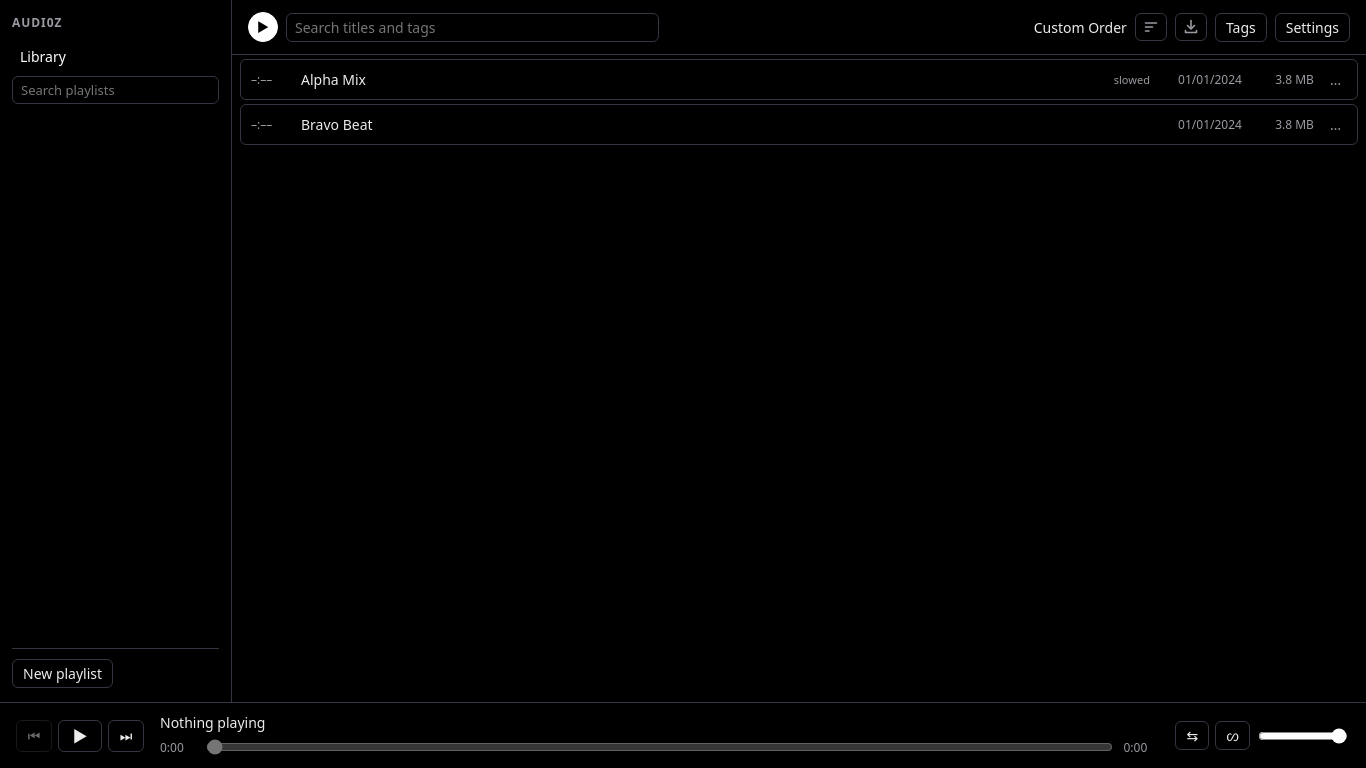
Test case: EditSongDialog › stays open and says so when the save fails
Click the button named "Options for Alpha Mix": click(1335, 80) [1324,71,1347,89]
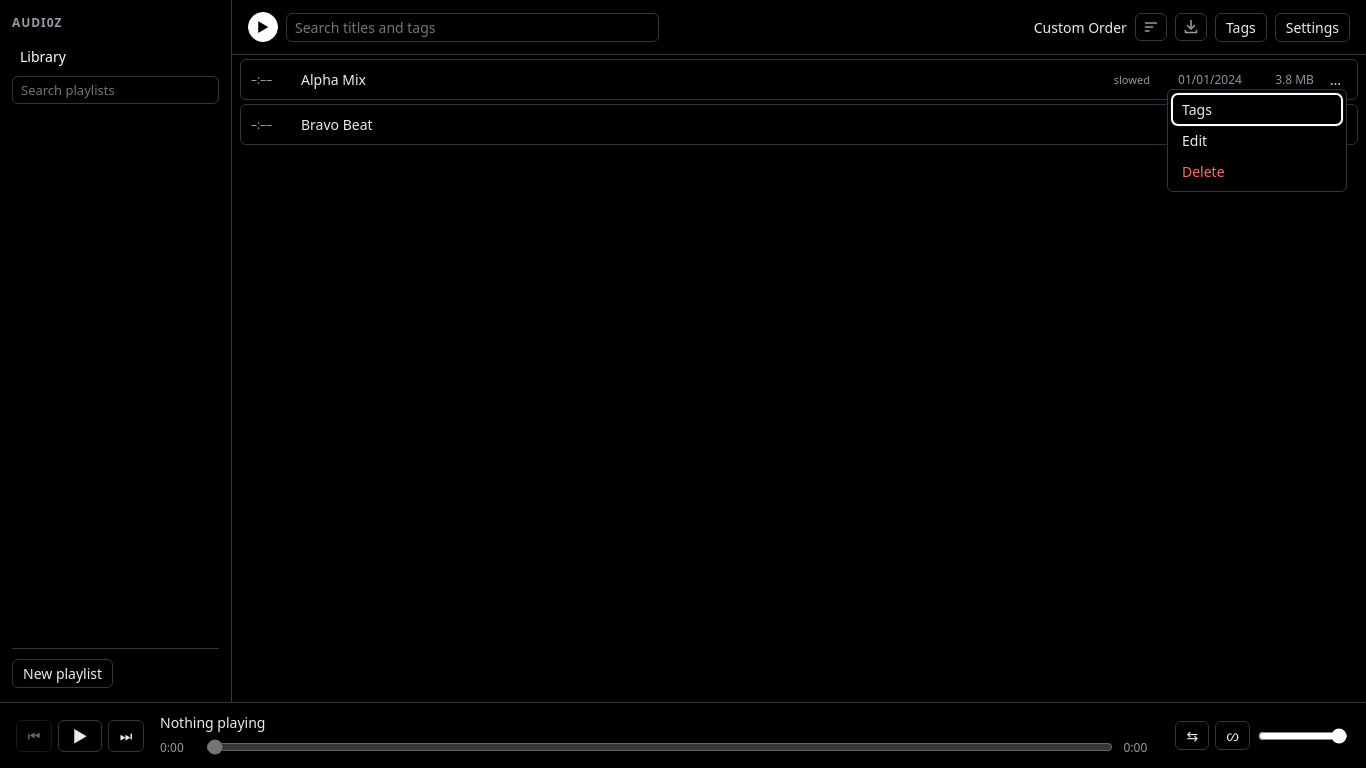
Click the menu item "Edit": click(1257, 140) [1172,125,1342,156]
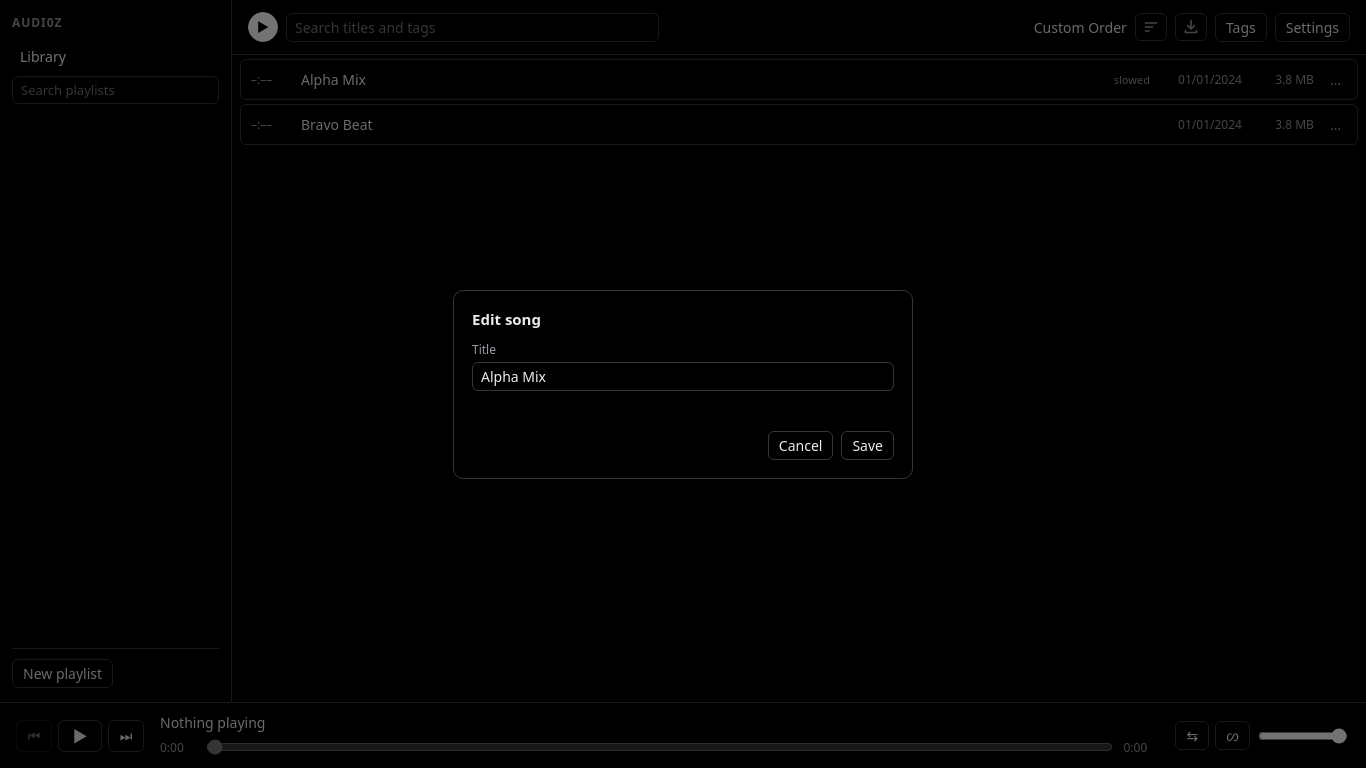
In the field labelled "Title": (683, 376) [472,362,894,390], type "!"
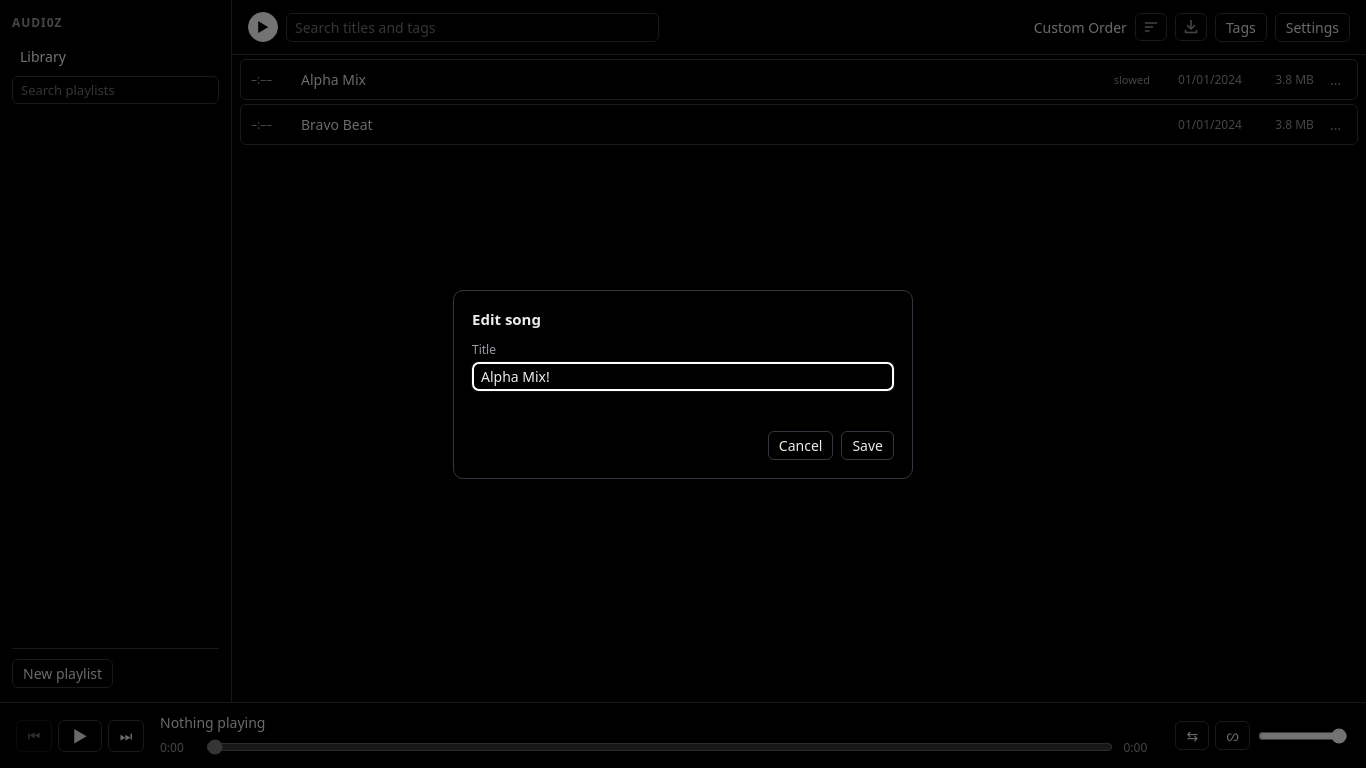
Click the button "Save": click(868, 445) [841,430,894,460]
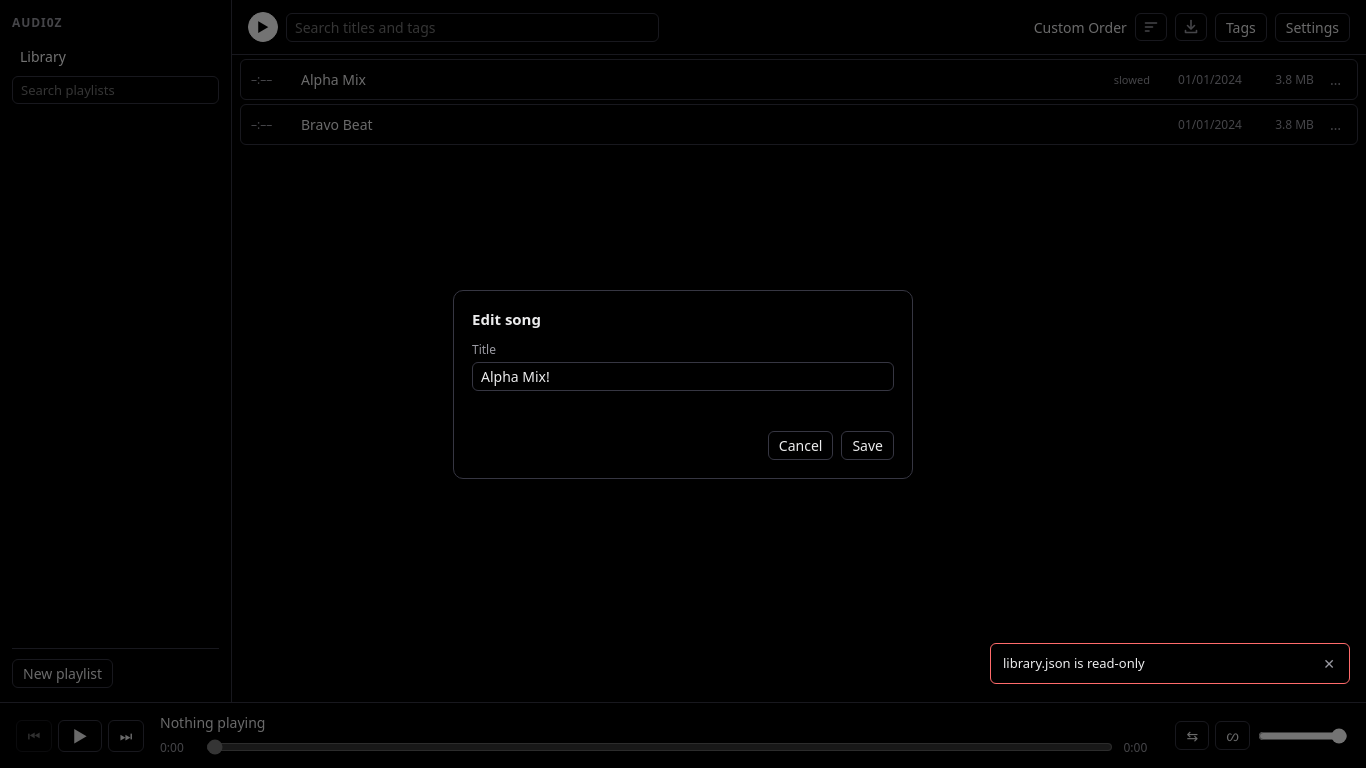
Now the dialog "Edit song" is shown, box [453,290,913,478]
Now the message shows "library.json is read-only", box [1003,654,1145,672]
